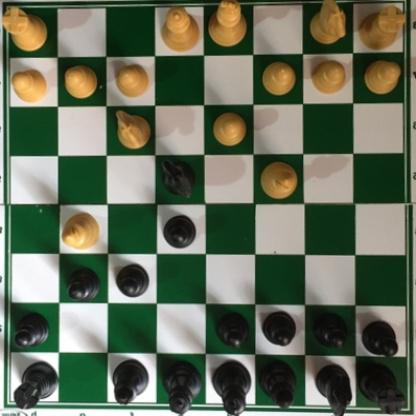black-bishop: (255, 363, 296, 411), (111, 359, 152, 405)
black-king: (210, 361, 251, 415)
black-knight: (315, 363, 354, 415), (158, 158, 197, 201)
black-pawn: (7, 311, 50, 350), (113, 265, 152, 302), (160, 214, 197, 253), (361, 323, 399, 360), (213, 309, 248, 348), (310, 310, 345, 349), (259, 311, 294, 347), (63, 272, 98, 307)
black-queen: (157, 361, 200, 415)
black-rook: (356, 362, 404, 415), (12, 362, 59, 413)
white-bishop: (256, 162, 299, 205), (60, 211, 101, 251)
white-king: (204, 0, 247, 50)
white-knight: (309, 0, 346, 47), (113, 111, 152, 154)
white-pawn: (8, 66, 50, 109), (61, 61, 100, 102), (358, 60, 401, 96), (261, 60, 299, 99), (211, 109, 248, 147), (112, 64, 150, 100), (309, 59, 347, 94)
white-queen: (157, 4, 200, 56)
white-rook: (1, 5, 49, 55), (355, 6, 405, 53)
